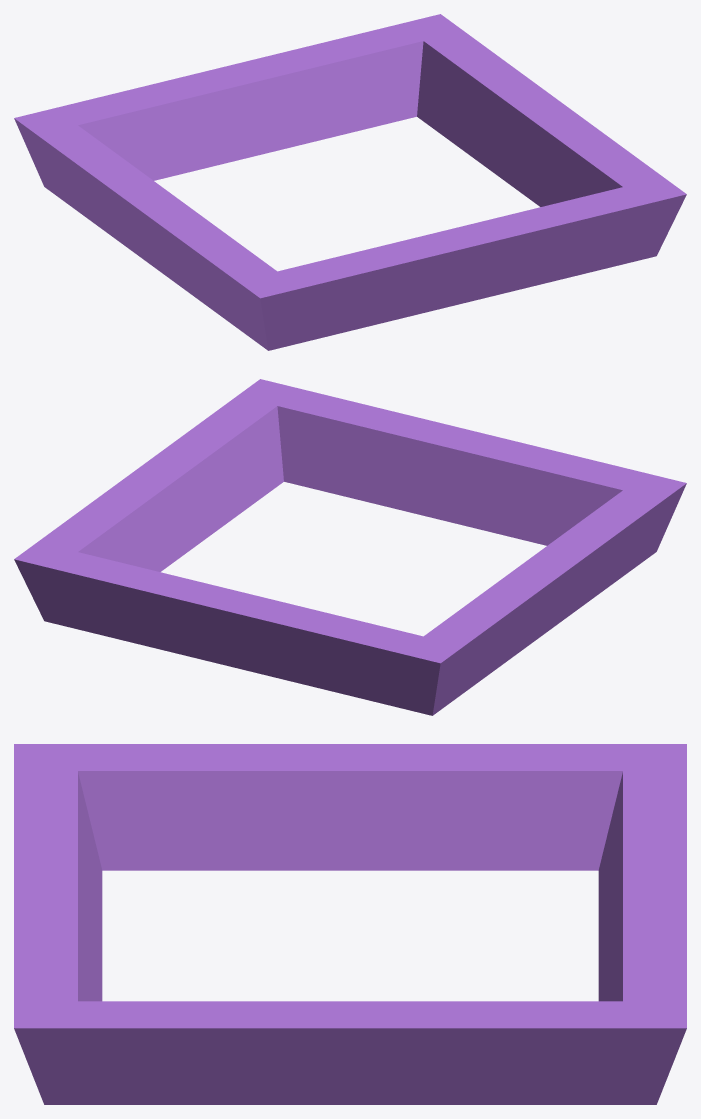
Rendered from IndicadorGrilla_blocking.fbx.
3 renders of one model, top to bottom at view 1: azimuth 30°, elevation 25°; view 2: azimuth 150°, elevation 25°; view 3: azimuth 270°, elevation 25°, orthographic. The views are drawn at different scales.
Parts seen in each view (by area): view 1: Marco_indicador; view 2: Marco_indicador; view 3: Marco_indicador.
Part boxes in pixels (x1,y1,x2,y2): Marco_indicador: (14, 14, 686, 350); Marco_indicador: (14, 379, 686, 715); Marco_indicador: (14, 744, 686, 1104).
Size of the model in its own units: 2.01 by 0.2939 by 2.01.
